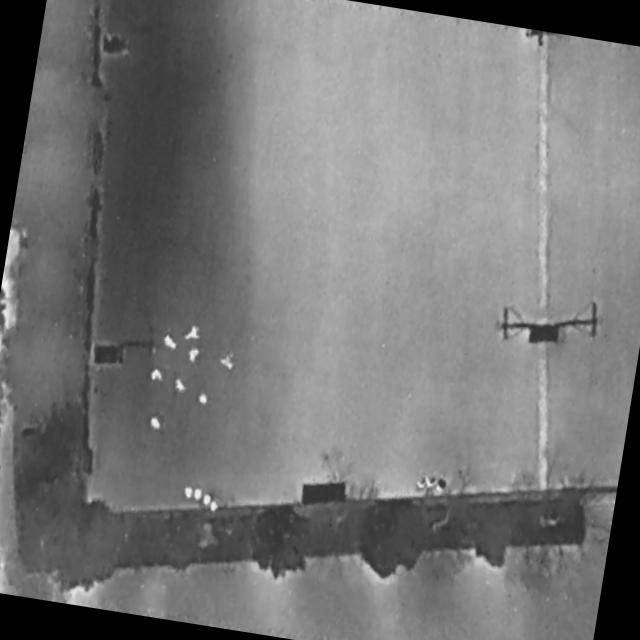person: (187, 325, 204, 343), (220, 354, 237, 372), (173, 379, 189, 395), (164, 335, 179, 352), (150, 368, 165, 385), (150, 417, 163, 433), (189, 349, 201, 364), (199, 393, 210, 405)
